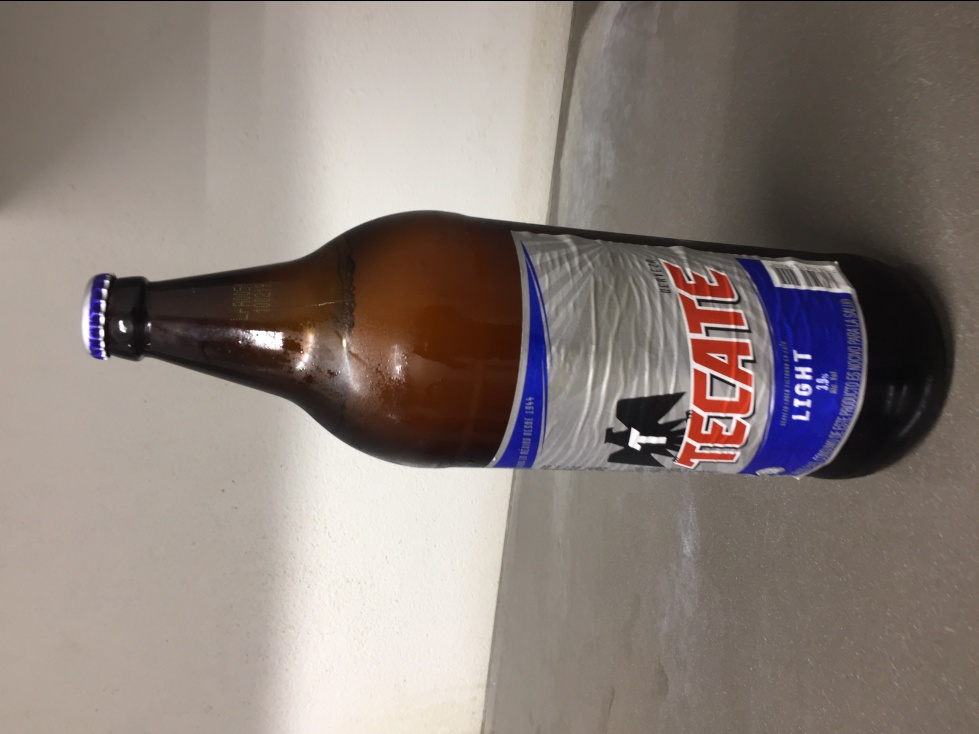tecateC: (77, 209, 954, 482)
